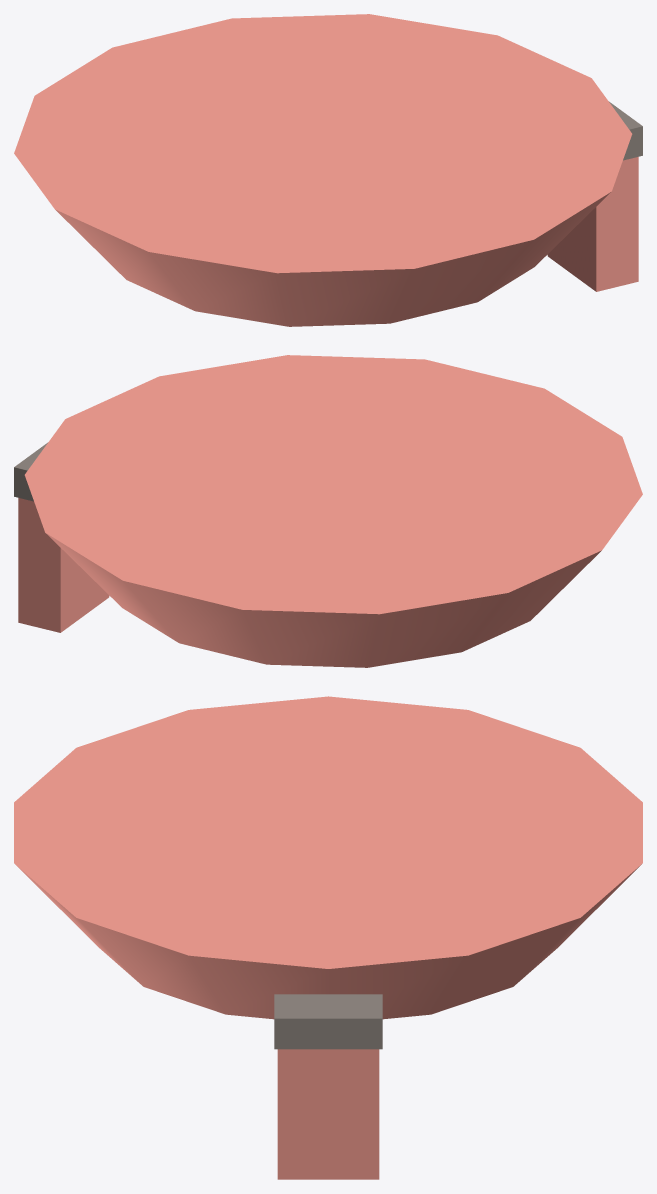
The model's file is outfit_scarf.glb.
3 views of the same model, one above another, from view 1: azimuth 30°, elevation 25°; view 2: azimuth 150°, elevation 25°; view 3: azimuth 270°, elevation 25° (orthographic). The views are drawn at different scales.
Visible parts, largest first — view 1: outfit_scarf; view 2: outfit_scarf; view 3: outfit_scarf.
Part boxes in pixels (box(x1,y1,x2,y2)): outfit_scarf: box(14, 14, 642, 326); outfit_scarf: box(14, 355, 642, 667); outfit_scarf: box(14, 696, 642, 1179).
Bounding box in the file's own units: 40 × 13 × 37.24.
